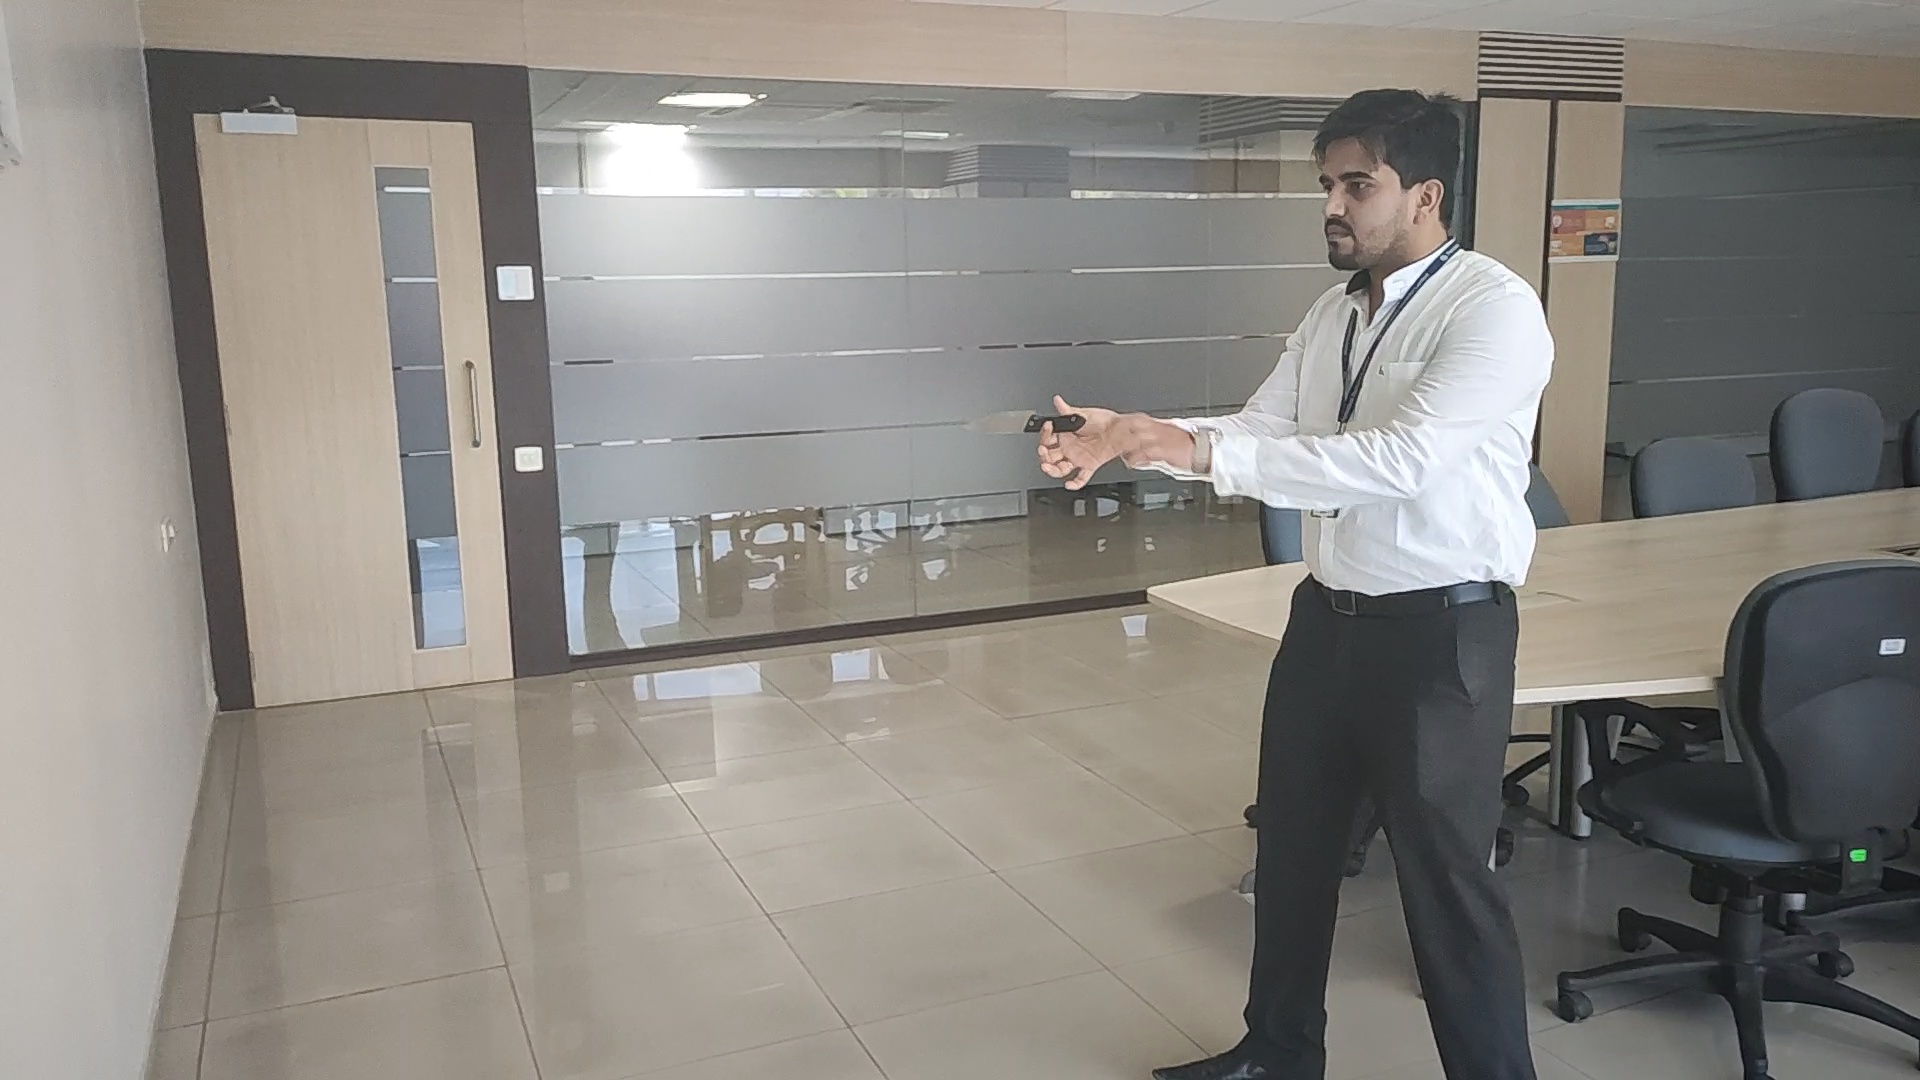knife: (960, 407, 1038, 435)
